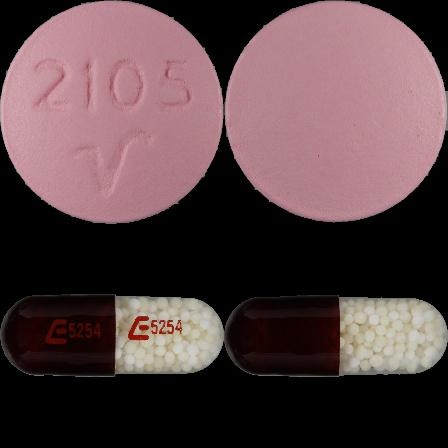50090-0333: (0, 0, 224, 224)
